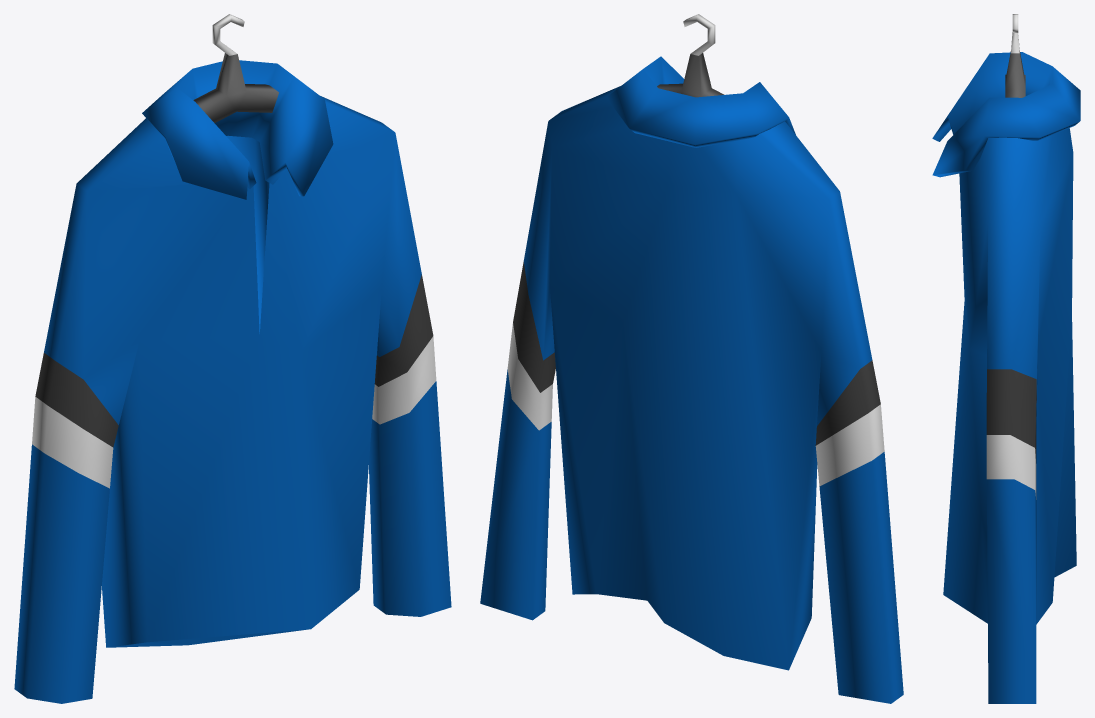
Rendered from clothes_029.glb.
The picture shows the model from 3 angles, left to right: view 1: azimuth 30°, elevation 25°; view 2: azimuth 150°, elevation 25°; view 3: azimuth 270°, elevation 25°; orthographic projection. The views are drawn at different scales.
Parts seen in each view (by area): view 1: clothes_029; view 2: clothes_029; view 3: clothes_029.
Boxes of the visible parts, x1,y1,x2,y2 form: clothes_029: [14, 14, 451, 703]; clothes_029: [480, 14, 903, 703]; clothes_029: [932, 14, 1080, 703].
Bounding box in the file's own units: 0.6414 × 0.9466 × 0.2131.
1 material, 1 textured.
